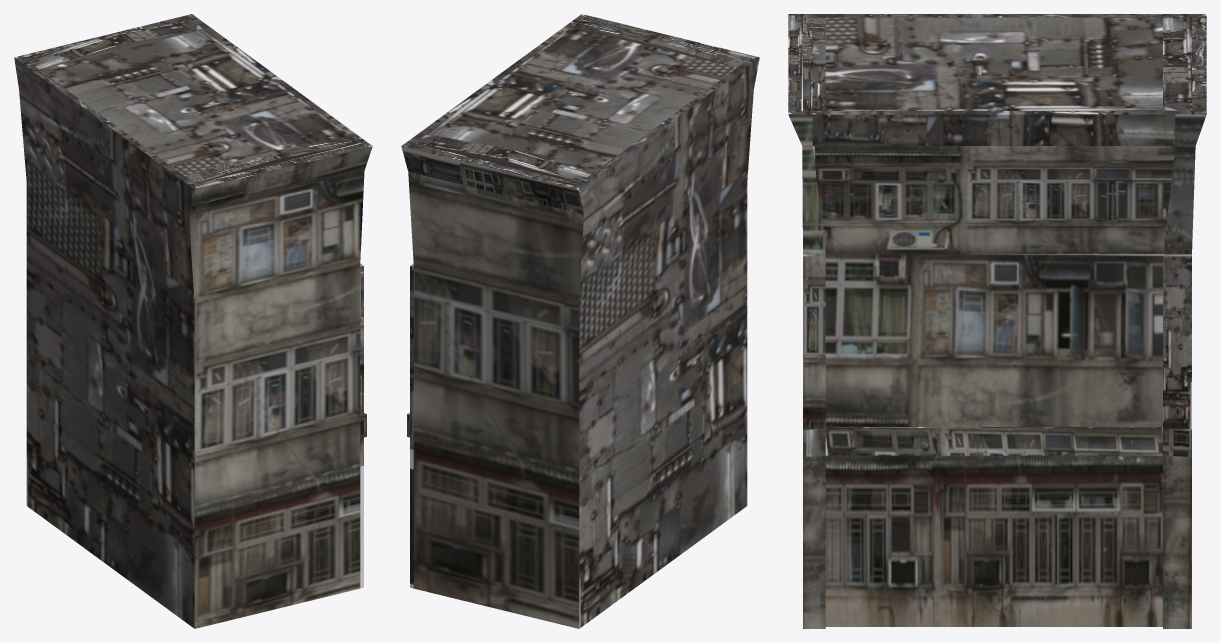
File: BUILDING.fbx
The picture shows the model from 3 angles, left to right: view 1: azimuth 30°, elevation 25°; view 2: azimuth 150°, elevation 25°; view 3: azimuth 270°, elevation 25°; orthographic projection. The views are drawn at different scales.
Visible parts, largest first — view 1: Cube; view 2: Cube; view 3: Cube.
Part boxes in pixels (x1,y1,x2,y2): Cube: [14, 14, 372, 628]; Cube: [401, 14, 759, 628]; Cube: [788, 14, 1206, 628].
Bounding box in the file's own units: 969 × 2335 × 1697.
